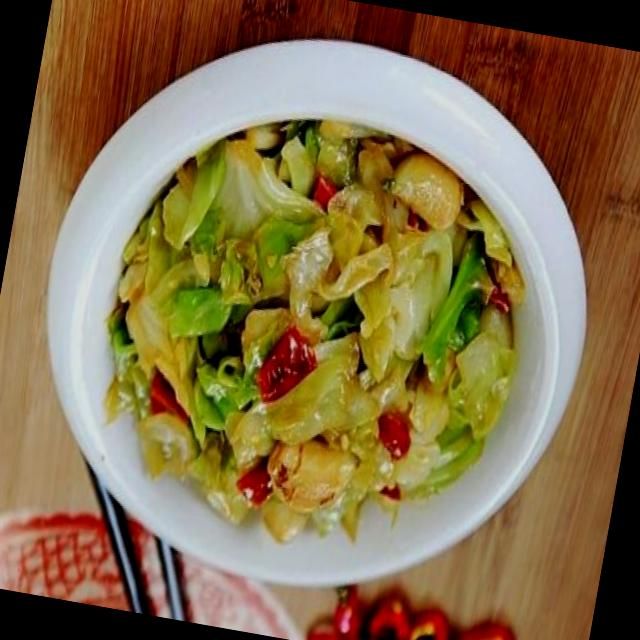bap cai xao: (105, 119, 526, 544)
